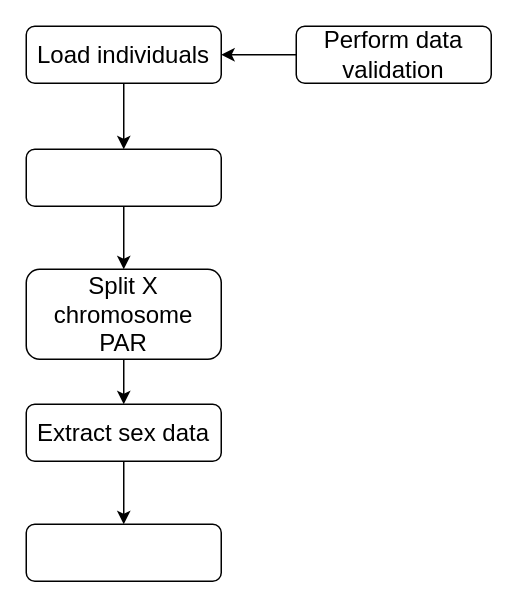
This 518x608 diagram has some shape labels left out. The shapes that lost their labels are listed below. From the top down, each one's centre as x and y in pixels, then its label:
[123,177]: Load associated genome data
[123,552]: Extract Females
